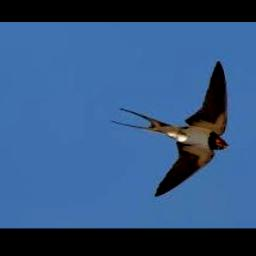Swallow: (112, 61, 230, 195)
